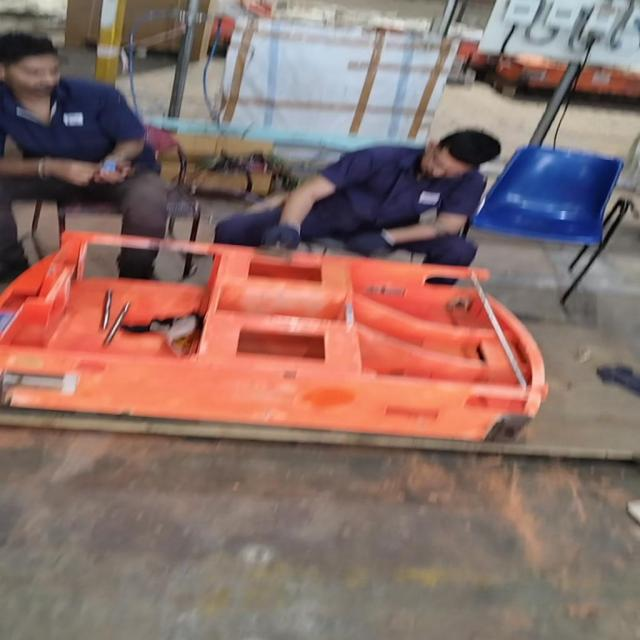Gloves-Detection: (343, 224, 394, 260), (264, 220, 306, 253)
